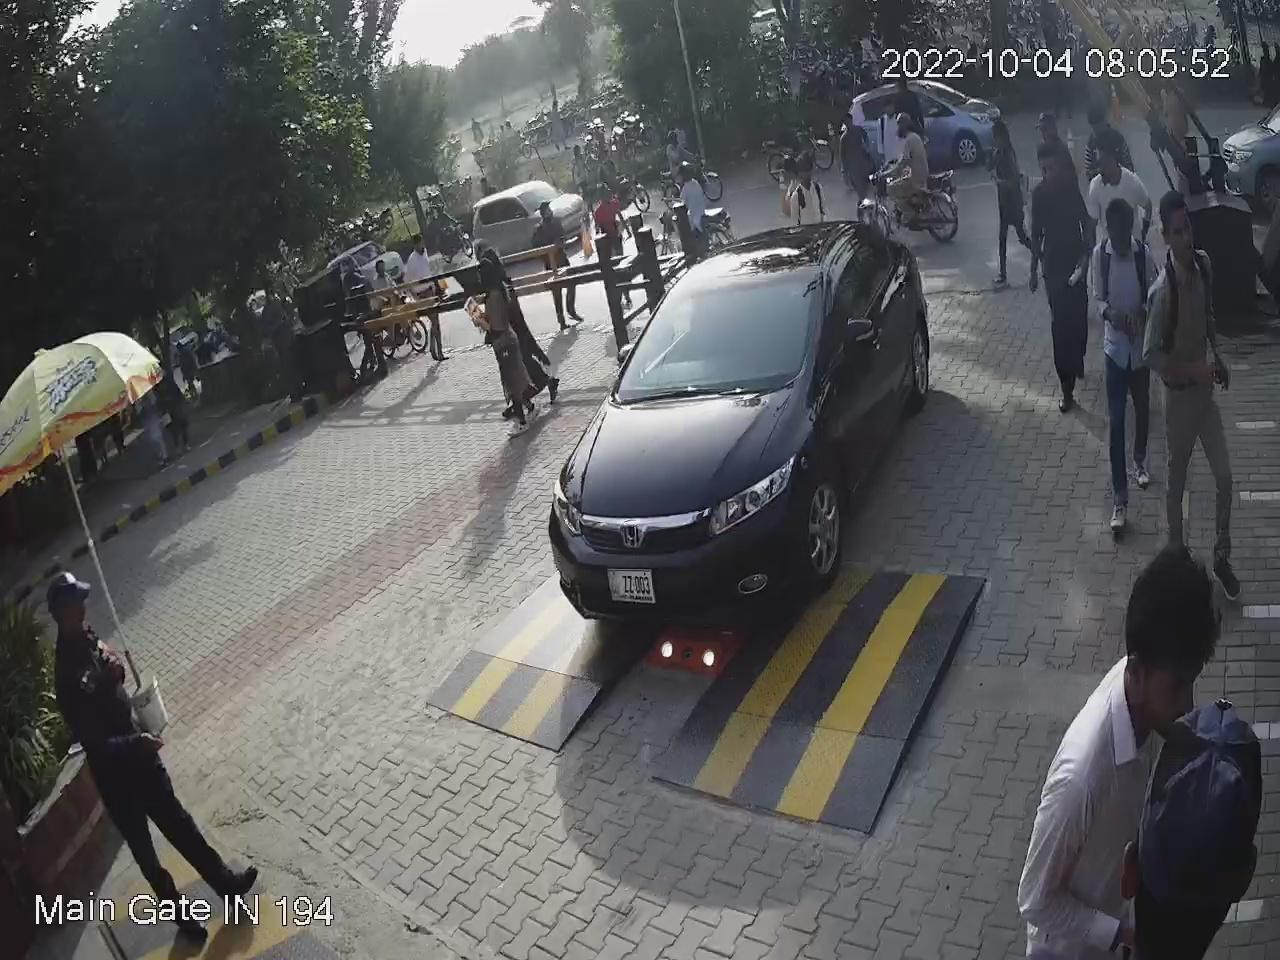windshield: (608, 250, 827, 407)
